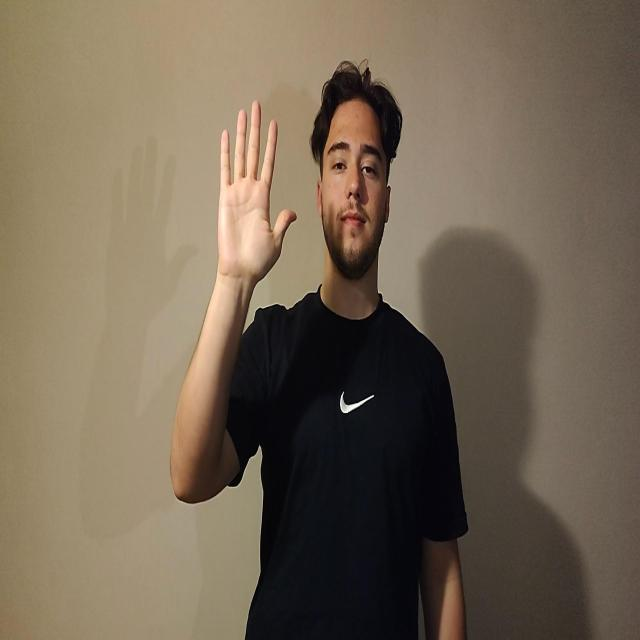hello: (216, 98, 297, 284)
